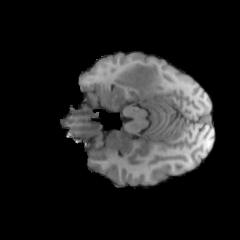glioma: (117, 65, 162, 97)
